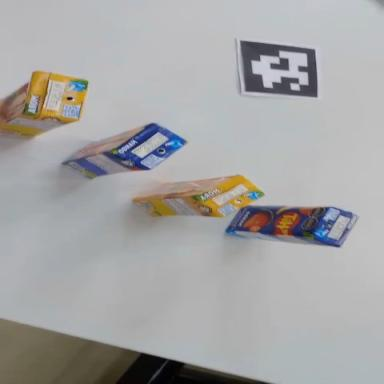HIT-MANGO: (59, 119, 189, 182), (226, 205, 358, 248)
HIT-MORA: (0, 70, 88, 141), (133, 175, 263, 217)
cara_F: (60, 123, 156, 162), (225, 205, 329, 237), (134, 175, 239, 198), (0, 67, 32, 132)
